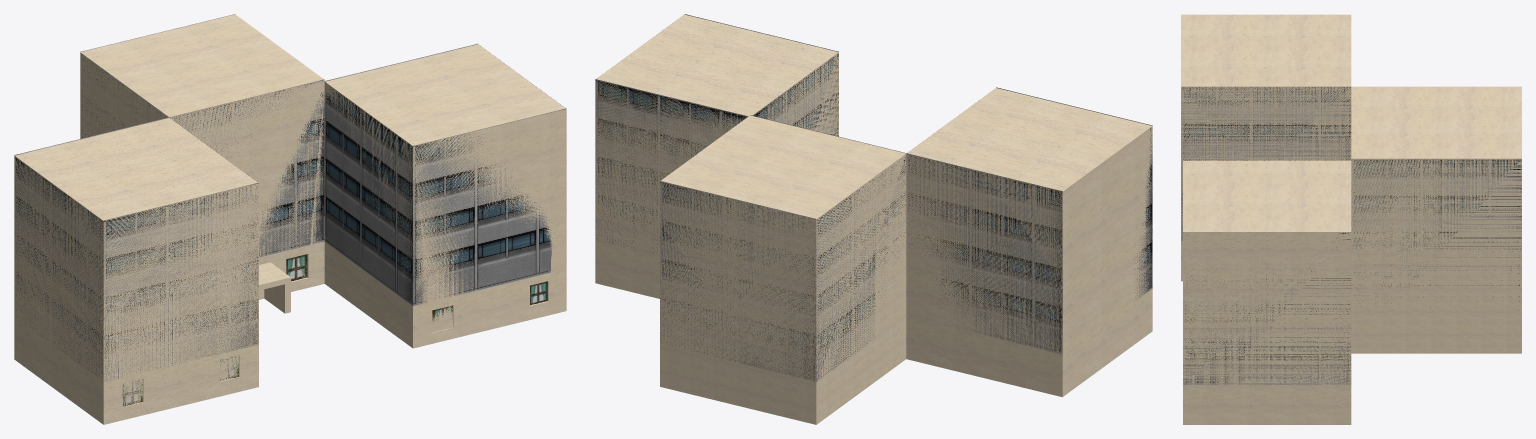
Rendered from building.obj.
3 renders of one model, left to right at view 1: azimuth 30°, elevation 25°; view 2: azimuth 150°, elevation 25°; view 3: azimuth 270°, elevation 25°, orthographic. The views are drawn at different scales.
Visible parts, largest first — view 1: Mesh1 Model, Mesh9 Model, Mesh8 Model, Mesh2 Model, Mesh5 Model, Mesh3 Model; view 2: Mesh1 Model, Mesh5 Model, Mesh7 Model, Mesh11 Model, Mesh4 Model, Mesh8 Model, Mesh3 Model; view 3: Mesh1 Model, Mesh4 Model, Mesh6 Model, Mesh10 Model.
Boxes of the visible parts, box(x1,y1,x2,y2) form: Mesh1 Model: box(14, 14, 566, 424); Mesh9 Model: box(413, 108, 566, 306); Mesh8 Model: box(324, 82, 412, 305); Mesh2 Model: box(103, 182, 258, 381); Mesh5 Model: box(14, 79, 324, 257); Mesh3 Model: box(14, 156, 103, 381); Mesh1 Model: box(595, 14, 1152, 424); Mesh5 Model: box(750, 115, 1062, 354); Mesh7 Model: box(660, 181, 816, 382); Mesh11 Model: box(595, 79, 748, 255); Mesh4 Model: box(816, 92, 989, 381); Mesh8 Model: box(752, 53, 838, 136); Mesh3 Model: box(1135, 127, 1152, 299); Mesh1 Model: box(1181, 14, 1521, 424); Mesh4 Model: box(1181, 86, 1351, 240); Mesh6 Model: box(1351, 159, 1521, 307); Mesh10 Model: box(1183, 232, 1351, 384).
Size of the model in its own units: 123 by 51.66 by 81.75.
Materials: 5 (4 with a texture image).
